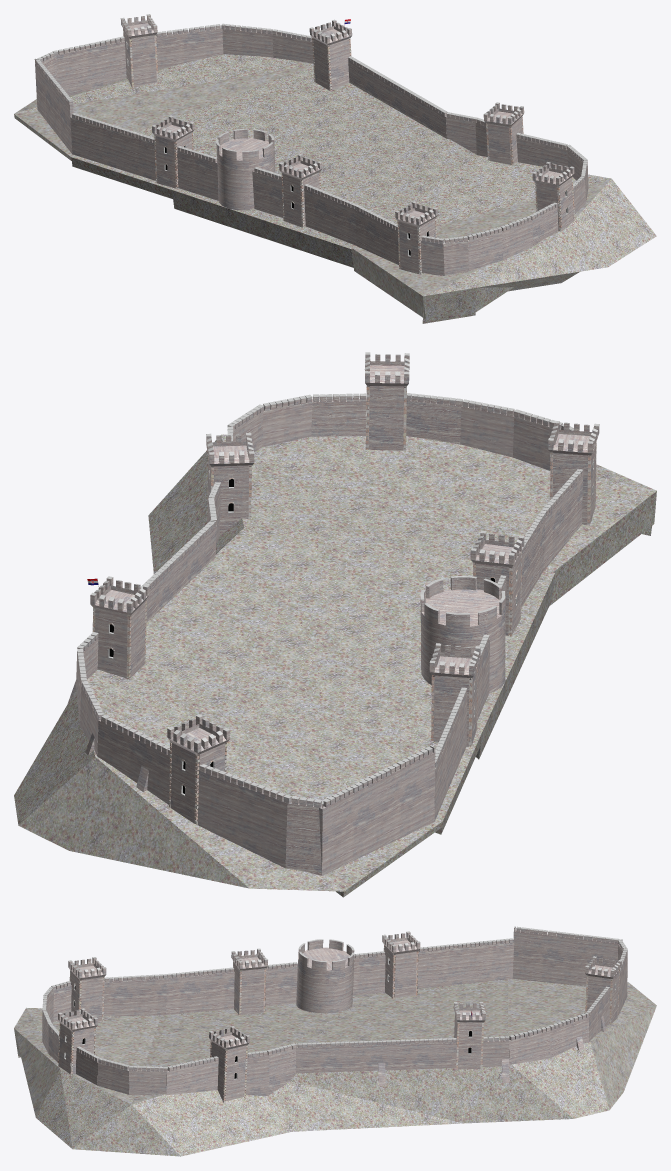
File: knintv.obj
The picture shows the model from 3 angles, top to bottom: view 1: azimuth 30°, elevation 25°; view 2: azimuth 150°, elevation 25°; view 3: azimuth 270°, elevation 25°; orthographic projection. The views are drawn at different scales.
Visible parts, largest first — view 1: Triangle29, Triangle23, Triangle38, Triangle34, Triangle42, Triangle35, Triangle43, Union45, Part496, Triangle39, Part155, Triangle13 (+39 smaller); view 2: Triangle34, Triangle29, Triangle35, Triangle42, Triangle43, Triangle9, Part287, Triangle44, Triangle41, Triangle38, Union45, Triangle45 (+34 smaller); view 3: Triangle28, Triangle19, Part287, Part425, Triangle34, Union45, Part496, Triangle23, Triangle12, Triangle35, Triangle38, Part583 (+55 smaller).
Part boxes in pixels (bbox=[...]): Triangle29: bbox=[321, 82, 476, 171]; Triangle23: bbox=[70, 64, 313, 156]; Triangle38: bbox=[172, 170, 353, 267]; Triangle34: bbox=[172, 69, 328, 189]; Triangle42: bbox=[344, 155, 477, 248]; Triangle35: bbox=[137, 66, 313, 189]; Triangle43: bbox=[352, 155, 520, 248]; Union45: bbox=[216, 130, 275, 210]; Part496: bbox=[70, 117, 156, 180]; Triangle39: bbox=[476, 228, 580, 291]; Part155: bbox=[56, 41, 126, 95]; Triangle13: bbox=[14, 54, 229, 113]; Triangle34: bbox=[88, 627, 481, 732]; Triangle29: bbox=[87, 527, 359, 682]; Triangle35: bbox=[89, 685, 481, 786]; Triangle42: bbox=[244, 527, 554, 616]; Triangle43: bbox=[245, 483, 553, 572]; Triangle9: bbox=[69, 774, 248, 888]; Part287: bbox=[319, 752, 435, 875]; Triangle44: bbox=[321, 439, 554, 572]; Triangle41: bbox=[406, 436, 656, 525]; Triangle38: bbox=[348, 573, 554, 759]; Union45: bbox=[420, 577, 505, 692]; Triangle45: bbox=[498, 491, 656, 605]; Triangle28: bbox=[290, 1065, 464, 1123]; Triangle19: bbox=[292, 1084, 463, 1131]; Part287: bbox=[512, 930, 617, 986]; Part425: bbox=[296, 1042, 456, 1073]; Triangle34: bbox=[314, 992, 454, 1040]; Union45: bbox=[296, 940, 354, 1013]; Part496: bbox=[417, 943, 514, 988]; Triangle23: bbox=[508, 979, 585, 1036]; Triangle12: bbox=[181, 1096, 291, 1156]; Triangle35: bbox=[399, 989, 507, 1040]; Triangle38: bbox=[178, 993, 377, 1034]; Part583: bbox=[166, 972, 234, 1014].
Bounding box in the file's own units: 71.93 × 21.13 × 112.
